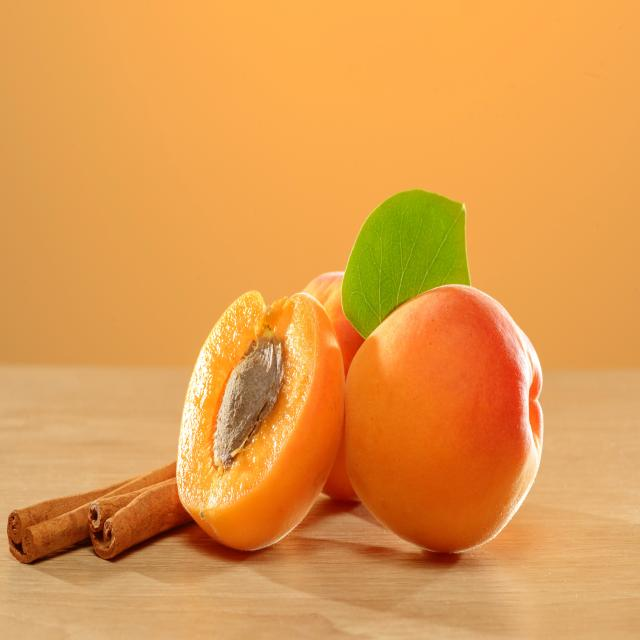cekirdek: (229, 341, 265, 464)
kayisi: (356, 320, 544, 520), (182, 291, 314, 565), (294, 268, 342, 328)
yaprak: (357, 194, 470, 314)
